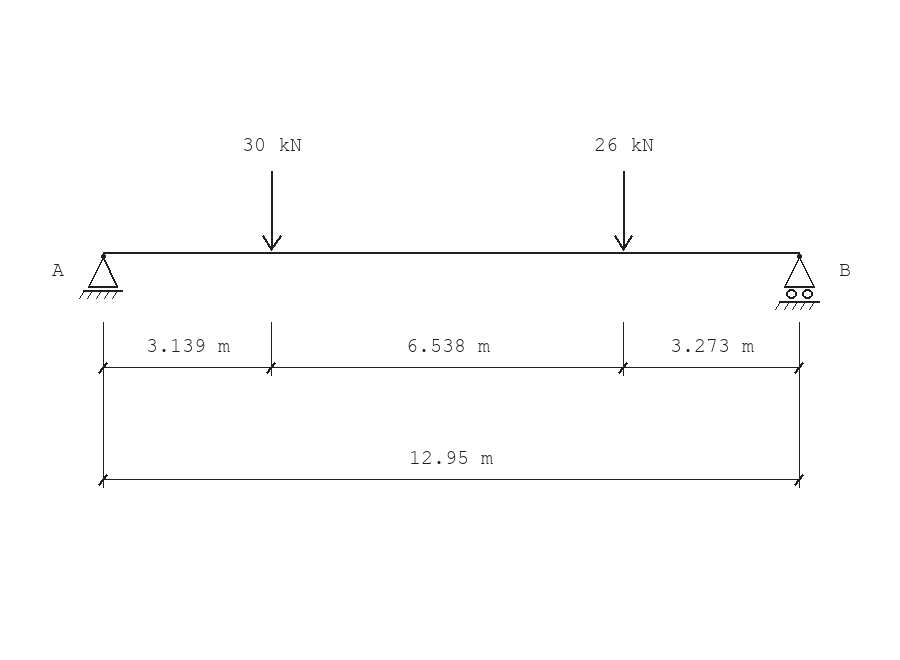pin_support: (79, 254, 123, 299)
point_load: (262, 171, 282, 251), (614, 171, 633, 251)
roller_support: (775, 254, 820, 310)
